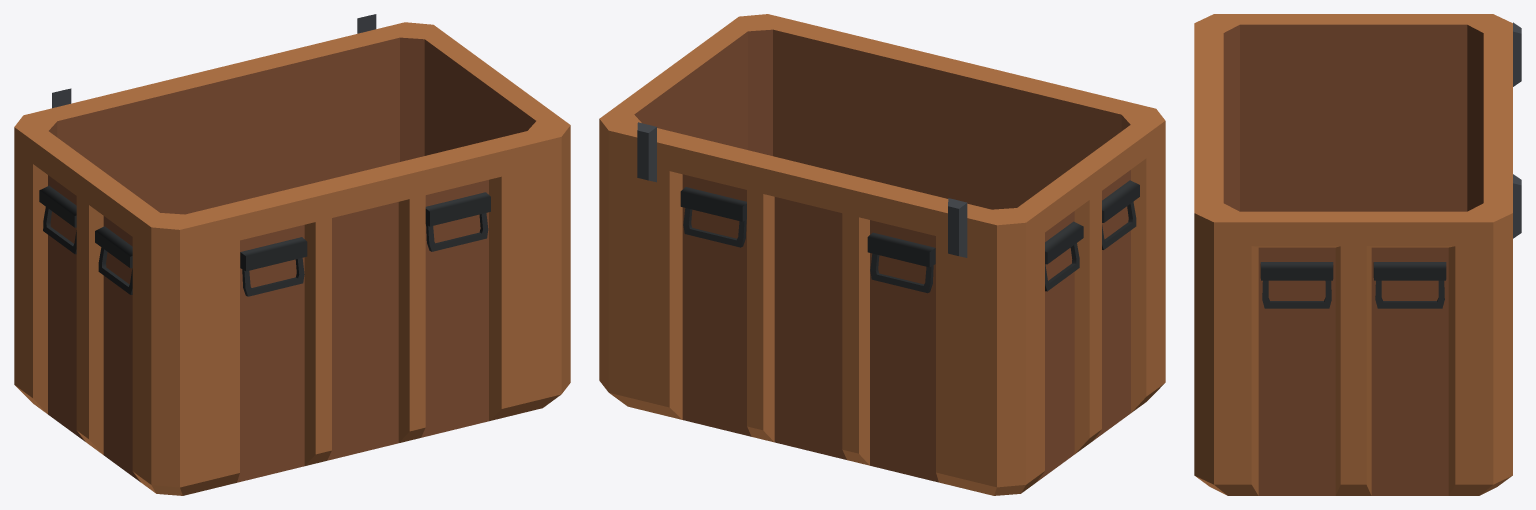
File: SM_Prop_Crate_Plastic_04.glb
The picture shows the model from 3 angles, left to right: view 1: azimuth 30°, elevation 25°; view 2: azimuth 150°, elevation 25°; view 3: azimuth 270°, elevation 25°; orthographic projection.
Visible parts, largest first — view 1: SM_Prop_Crate_Plastic_04; view 2: SM_Prop_Crate_Plastic_04; view 3: SM_Prop_Crate_Plastic_04.
Part boxes in pixels (x1,y1,x2,y2): SM_Prop_Crate_Plastic_04: (14,14,570,495); SM_Prop_Crate_Plastic_04: (599,14,1165,495); SM_Prop_Crate_Plastic_04: (1194,14,1521,495).
Size of the model in its own units: 1.2 by 0.7928 by 0.798.
Materials: 1 (1 with a texture image).
